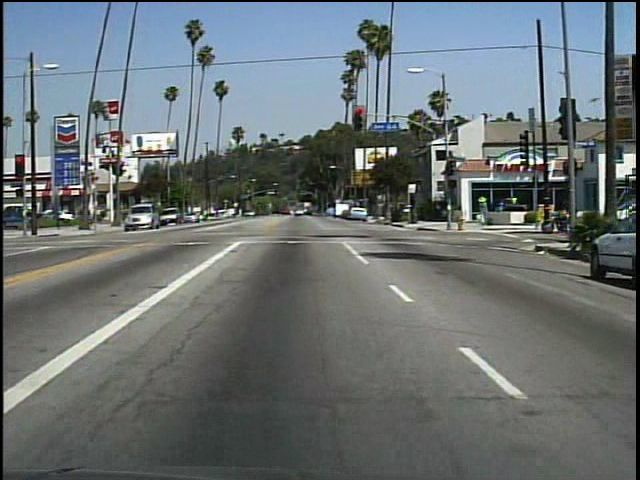person: (556, 194, 581, 235), (474, 192, 490, 227)
